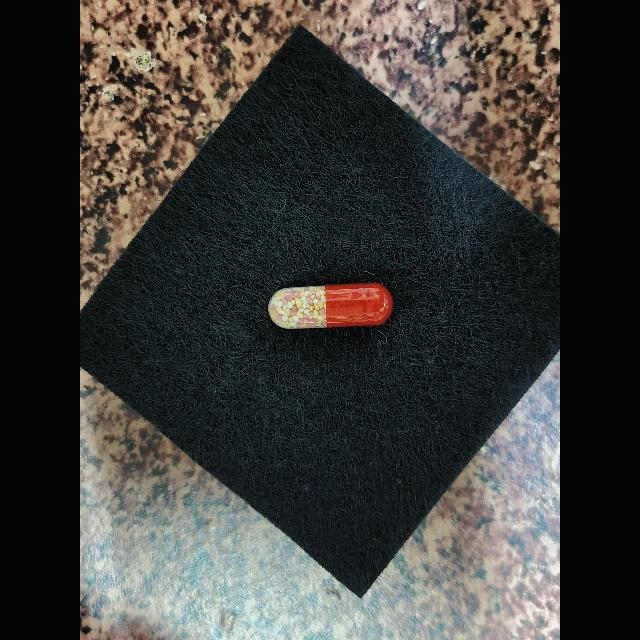Intact Capsule: (268, 283, 393, 329)
